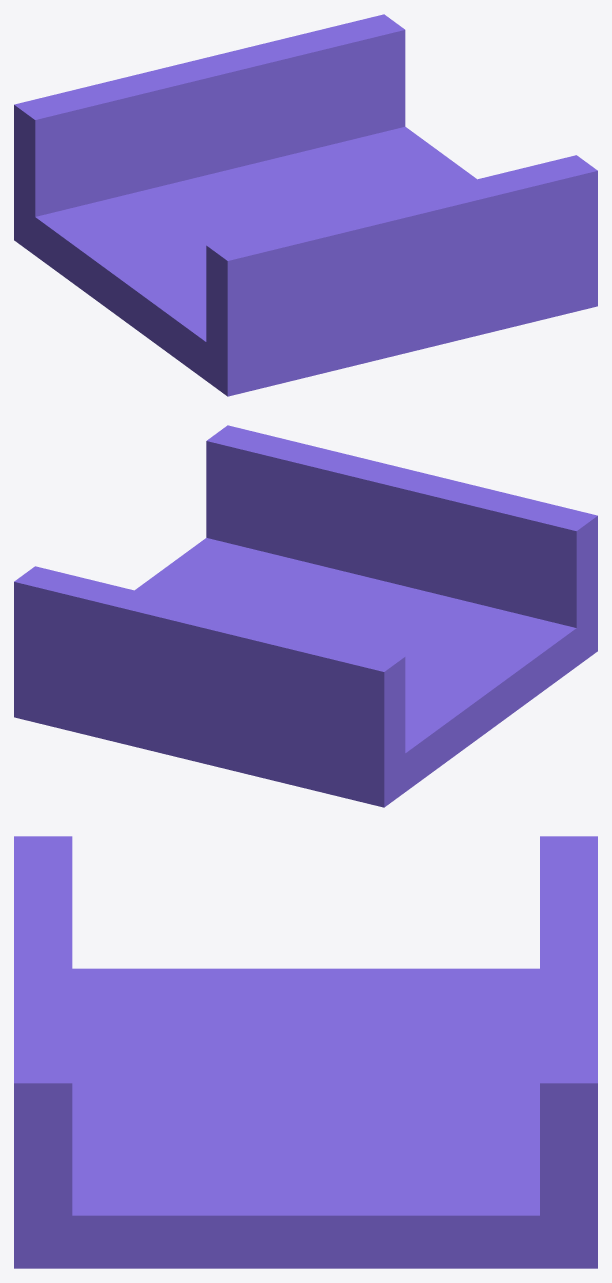
Rendered from PurpleRoof_2Edges_Small.glb.
3 views of the same model, one above another, from view 1: azimuth 30°, elevation 25°; view 2: azimuth 150°, elevation 25°; view 3: azimuth 270°, elevation 25° (orthographic). The views are drawn at different scales.
Visible parts, largest first — view 1: roof_flat_2Edges_small_purple; view 2: roof_flat_2Edges_small_purple; view 3: roof_flat_2Edges_small_purple.
Boxes of the visible parts, x1,y1,x2,y2 form: roof_flat_2Edges_small_purple: (14,14,597,396); roof_flat_2Edges_small_purple: (14,425,597,807); roof_flat_2Edges_small_purple: (14,836,597,1268).
Size of what is drawn, in the model's own units: 2 by 0.7 by 2.
Materials: 1 (1 with a texture image).
